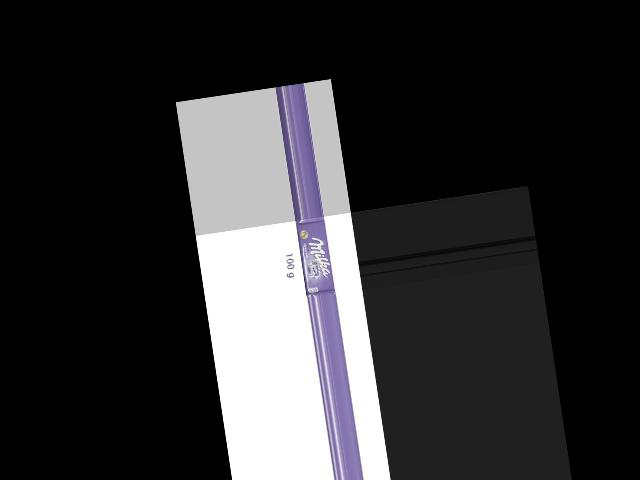chocolate: (290, 218, 336, 299)
